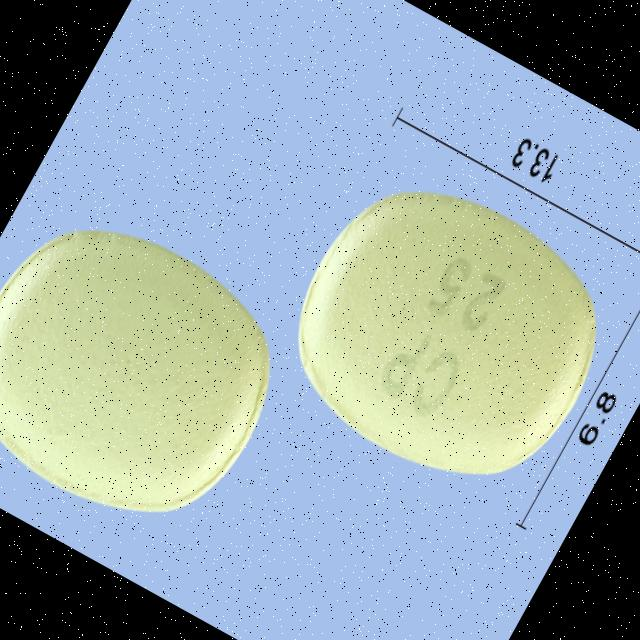Clarod: (252, 141, 640, 524), (0, 191, 309, 562)
